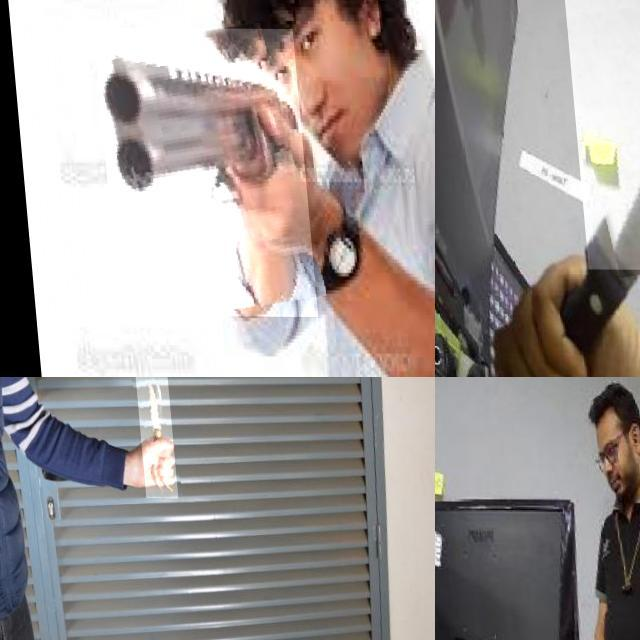-: (559, 0, 640, 270), (131, 377, 171, 497)
gun-knife-thesis - v11 Yolov5 augmented: (90, 28, 310, 316)
